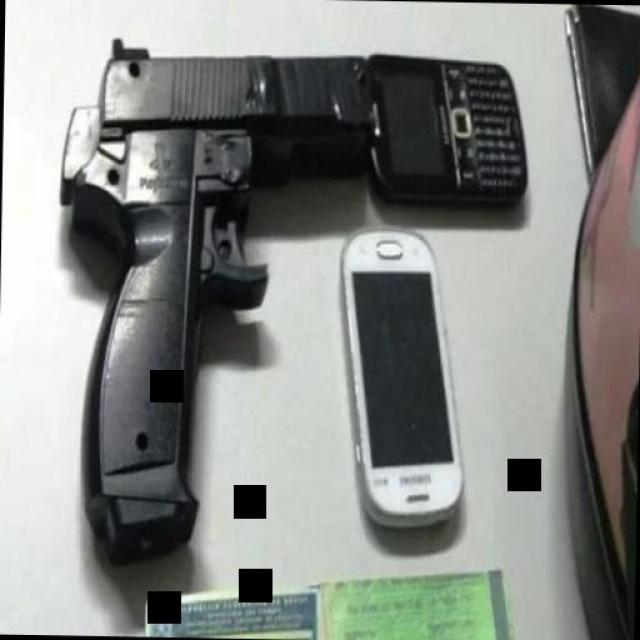gun: (48, 31, 378, 566)
